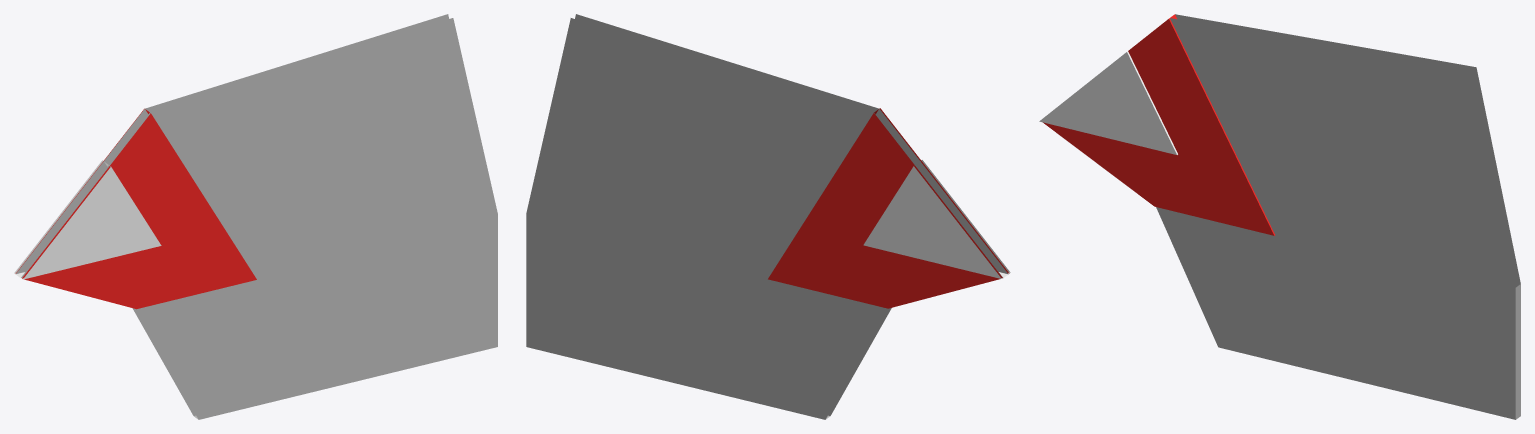
File: BottomRightPH.fbx
3 views of the same model, side by side, from view 1: azimuth 30°, elevation 25°; view 2: azimuth 150°, elevation 25°; view 3: azimuth 330°, elevation 25° (orthographic).
Visible parts, largest first — view 1: Plane.068; view 2: Plane.068; view 3: Plane.068.
Boxes of the visible parts, x1,y1,x2,y2 form: Plane.068: (14,14,497,419); Plane.068: (526,14,1010,419); Plane.068: (1039,14,1520,419).
Size of the model in its own units: 3.81 by 2.59 by 0.1205.
